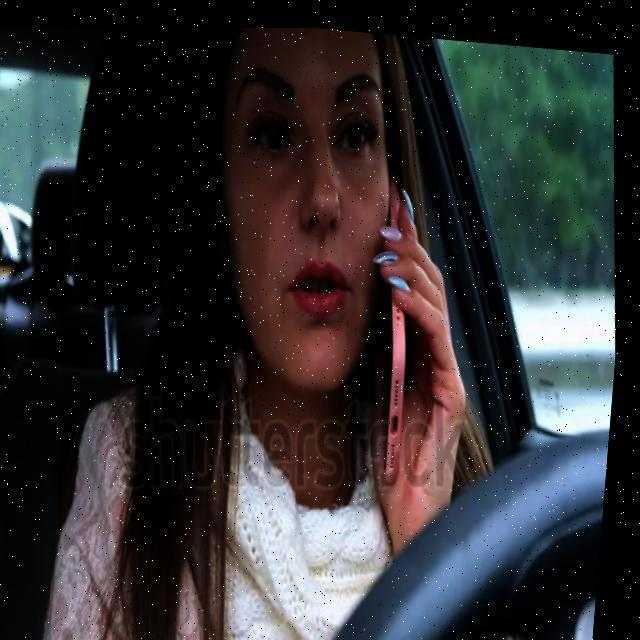PhoneCall: (360, 140, 441, 487)
